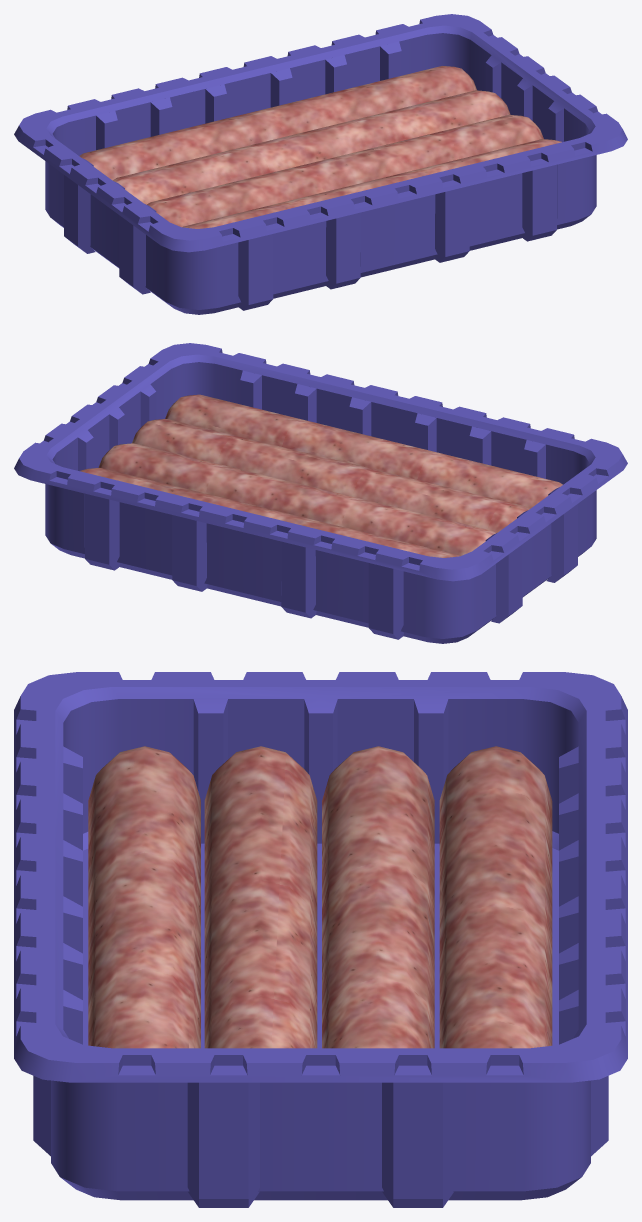
Rendered from Kupaty_Extra.glb.
3 renders of one model, top to bottom at view 1: azimuth 30°, elevation 25°; view 2: azimuth 150°, elevation 25°; view 3: azimuth 270°, elevation 25°, orthographic. The views are drawn at different scales.
Visible parts, largest first — view 1: Kupaty_Extra Tray, Kupaty_Extra; view 2: Kupaty_Extra Tray, Kupaty_Extra; view 3: Kupaty_Extra Tray, Kupaty_Extra.
Part boxes in pixels (x1=…): Kupaty_Extra Tray: x1=14, y1=14, x2=627, y2=314; Kupaty_Extra: x1=79, y1=66, x2=561, y2=228; Kupaty_Extra Tray: x1=14, y1=343, x2=627, y2=643; Kupaty_Extra: x1=80, y1=394, x2=562, y2=557; Kupaty_Extra Tray: x1=14, y1=672, x2=627, y2=1207; Kupaty_Extra: x1=88, y1=746, x2=552, y2=1048.
Bounding box in the file's own units: 0.2476 × 0.046 × 0.1619.
2 materials, 2 textured.
